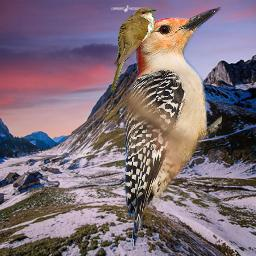Cuckoo: (110, 7, 156, 93)
Woodpecker: (124, 5, 222, 248)
